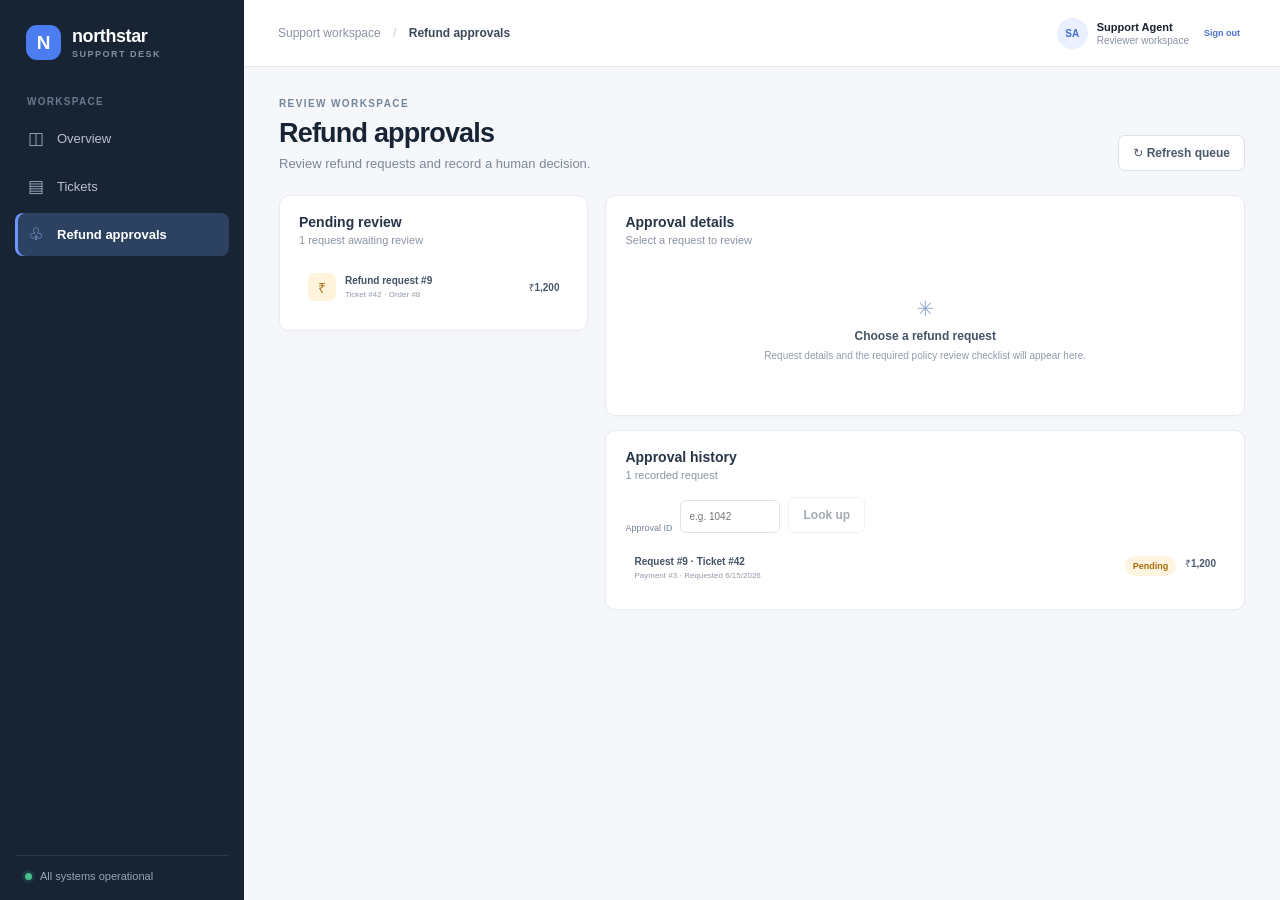
Test: support dashboard › requires a rejection reason and submits it to the backend
Later steps or results of the test are not shown.
Click the button "₹ Refund request #9 Ticket #42 · Order #8 ₹1,200" at (434, 287), box [299,262,568,312]
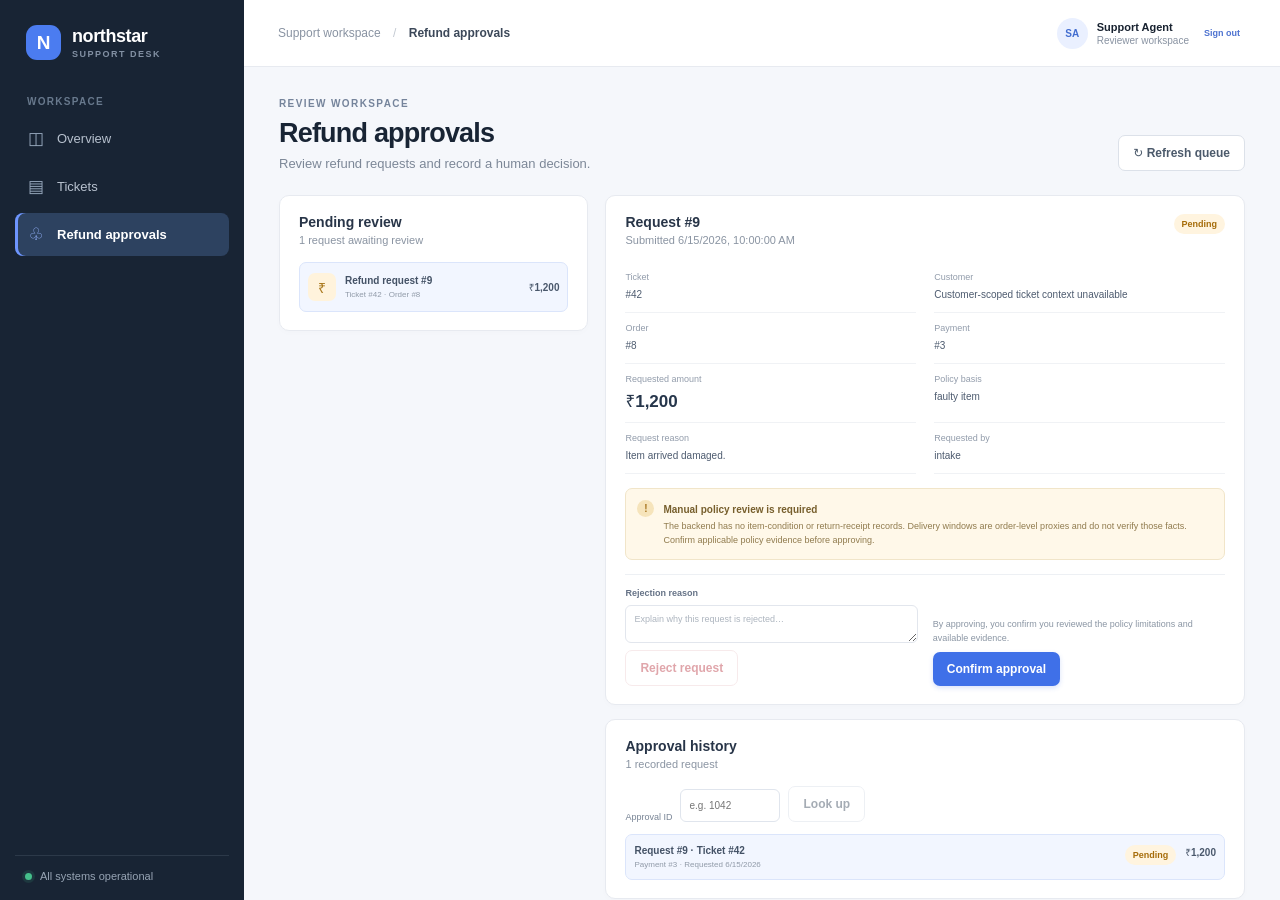
Expected: the text box labelled "Rejection reason" is shown, [626,605,918,643]
Expected: the button "Reject request" is disabled, [626,650,738,686]
